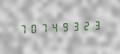four: (50, 20, 60, 33)
nine: (61, 19, 71, 33)
seven: (17, 22, 27, 35), (39, 21, 49, 34)
three: (72, 19, 82, 32), (94, 18, 104, 31)
two: (83, 18, 93, 32)
zero: (28, 21, 38, 35)
